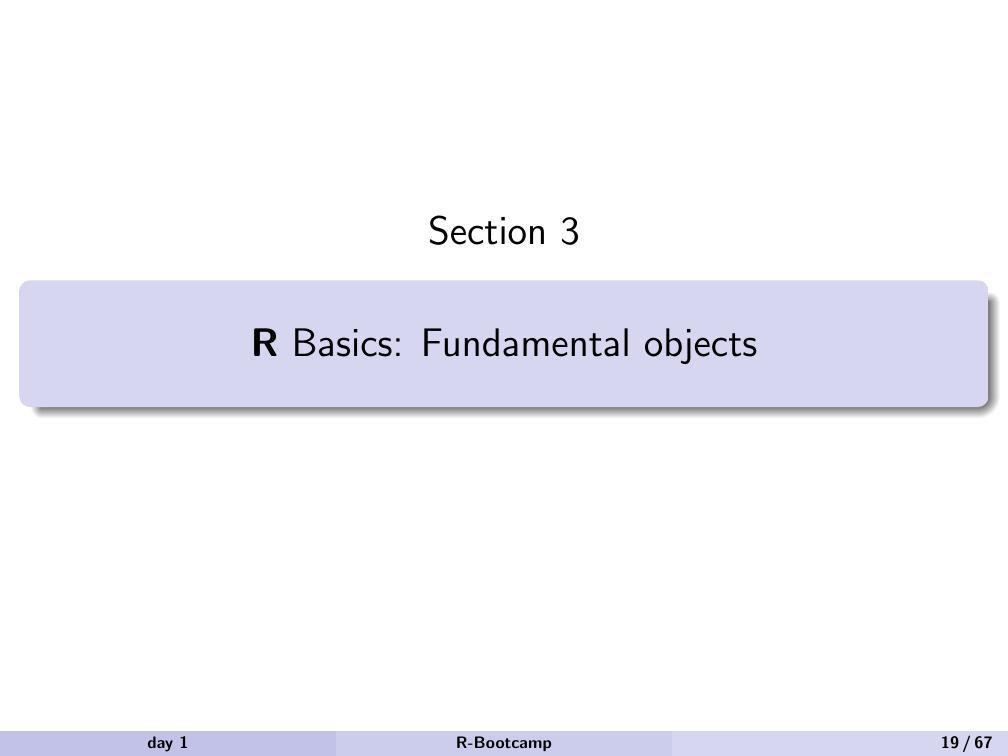Title: (231, 308, 772, 377)
